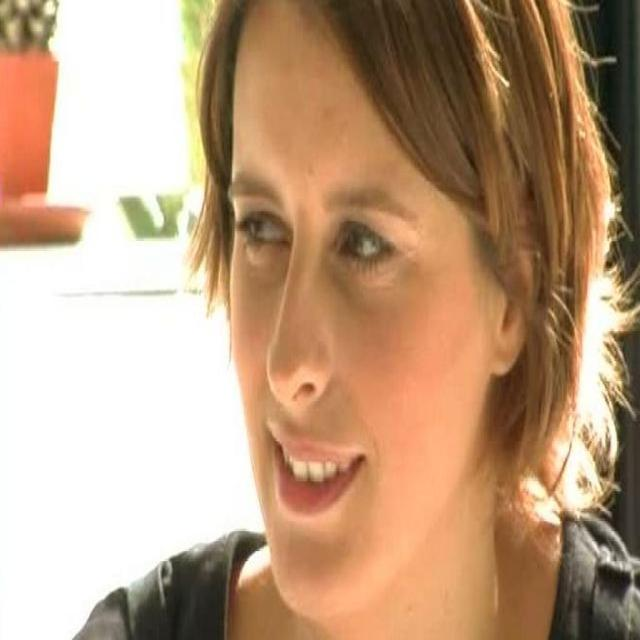Face: (232, 29, 496, 602)
